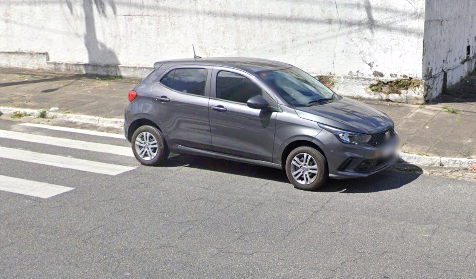car: (120, 43, 402, 197)
